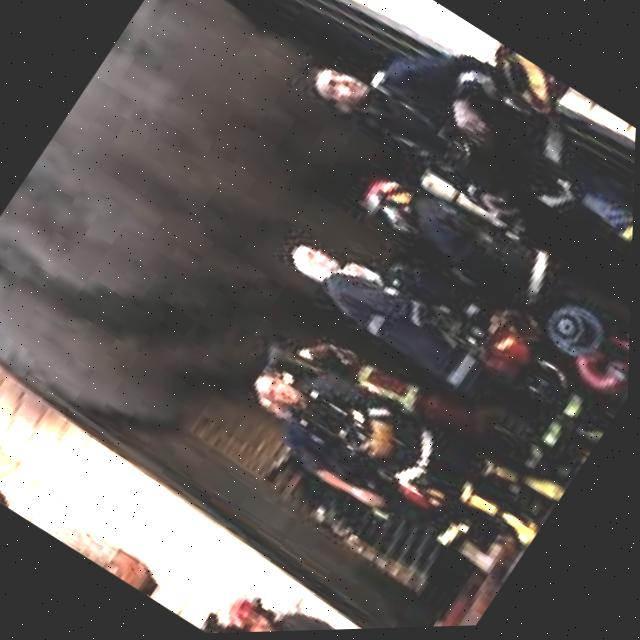Smoke: (0, 0, 429, 481)
